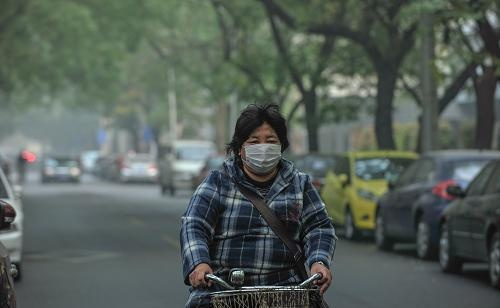Mask: (242, 131, 283, 172)
